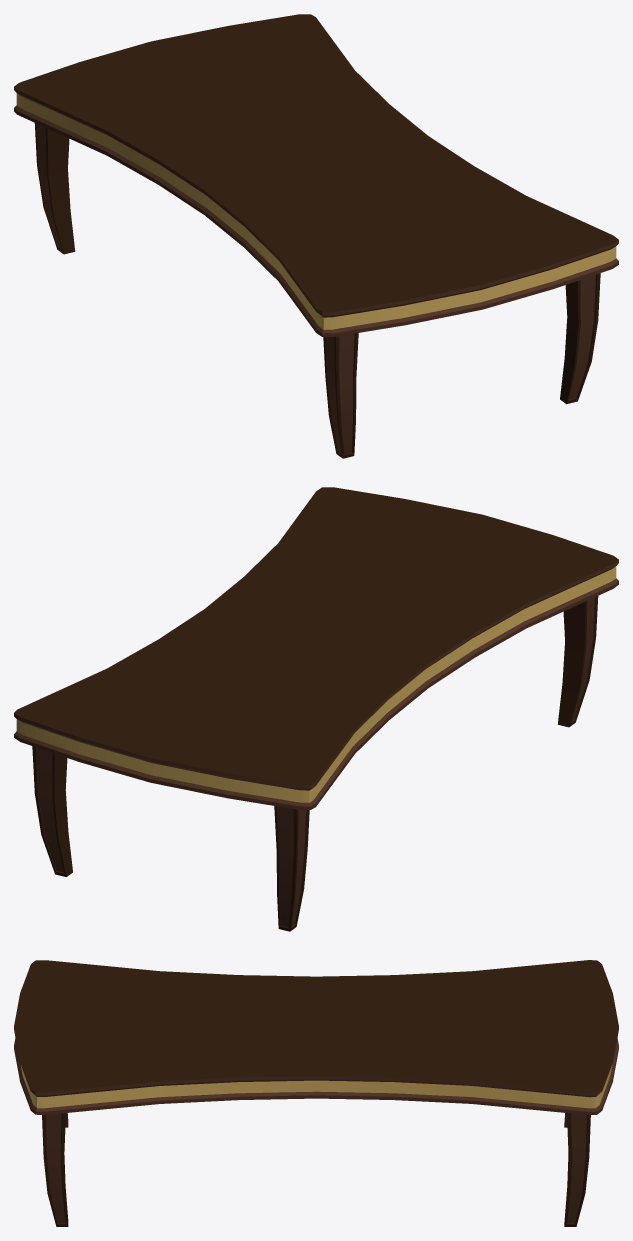
The model's file is DiningBuffetTable.fbx.
The picture shows the model from 3 angles, top to bottom: view 1: azimuth 30°, elevation 25°; view 2: azimuth 150°, elevation 25°; view 3: azimuth 270°, elevation 25°; orthographic projection. The views are drawn at different scales.
Parts seen in each view (by area): view 1: BuffetTable:BuffetTable1; view 2: BuffetTable:BuffetTable1; view 3: BuffetTable:BuffetTable1.
Boxes of the visible parts, bbox=[...] form: BuffetTable:BuffetTable1: bbox=[14, 14, 618, 458]; BuffetTable:BuffetTable1: bbox=[14, 487, 618, 931]; BuffetTable:BuffetTable1: bbox=[14, 960, 618, 1226].
Bounding box in the file's own units: 251 × 131 × 485.
